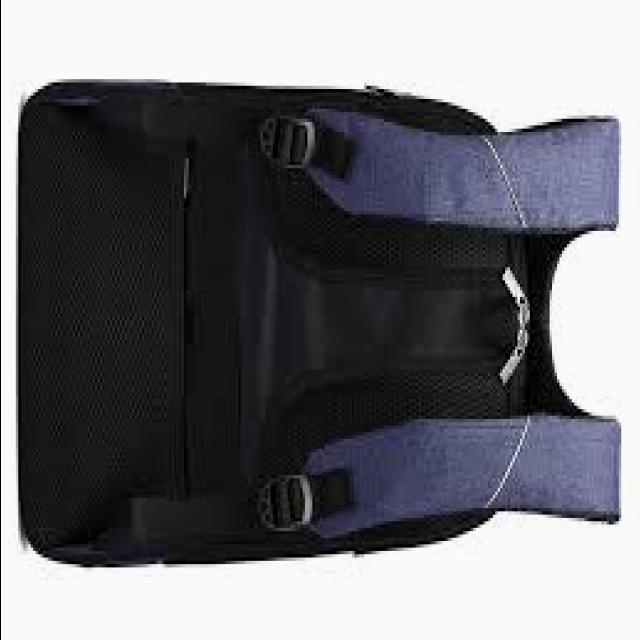backpack: (18, 77, 624, 569)
